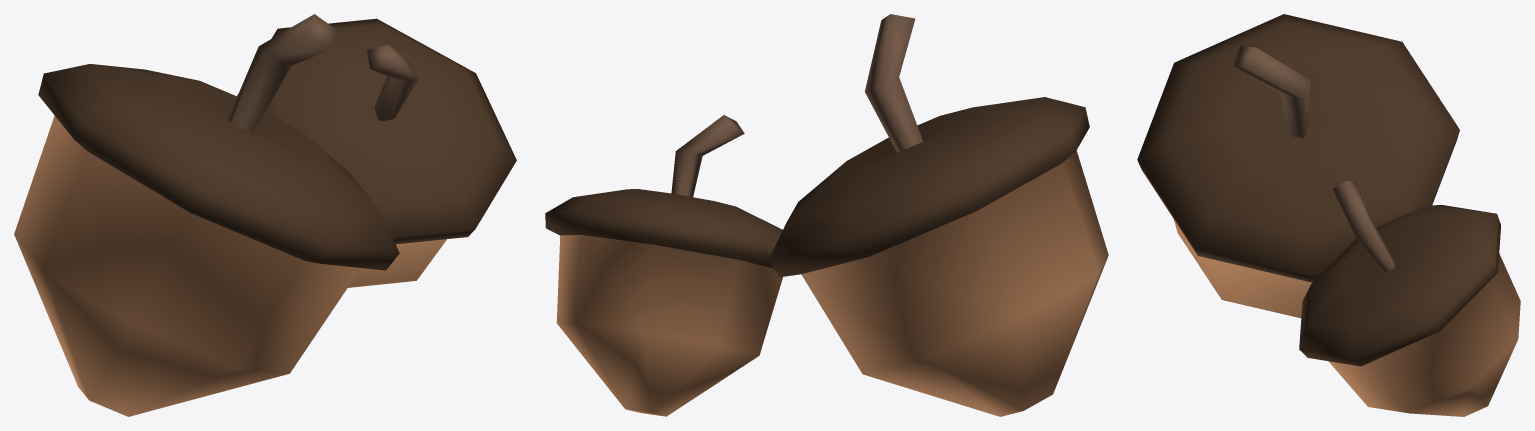
Rendered from TotenNoz.fbx.
3 renders of one model, left to right at view 1: azimuth 30°, elevation 25°; view 2: azimuth 150°, elevation 25°; view 3: azimuth 270°, elevation 25°, orthographic. The views are drawn at different scales.
Parts seen in each view (by area): view 1: Cube.001; view 2: Cube.001; view 3: Cube.001.
Boxes of the visible parts, x1,y1,x2,y2 form: Cube.001: (14,14,516,416); Cube.001: (545,14,1108,416); Cube.001: (1137,14,1520,416).
Size of the model in its own units: 184 by 129 by 144.
